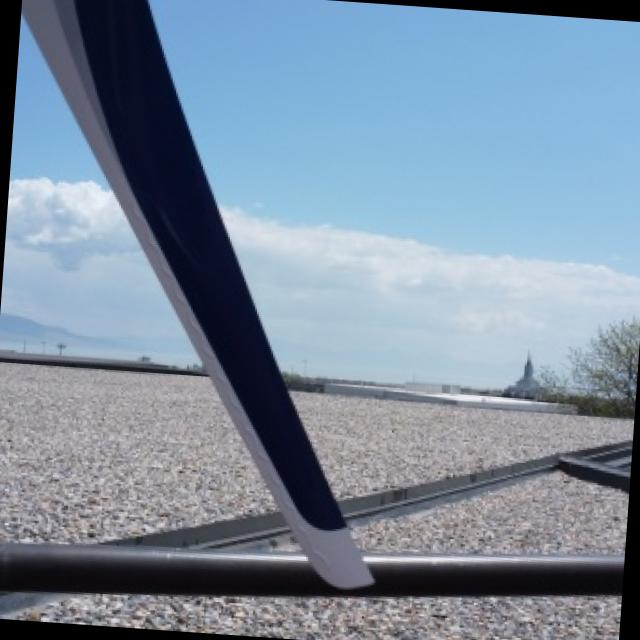healthy: (0, 544, 342, 591)
